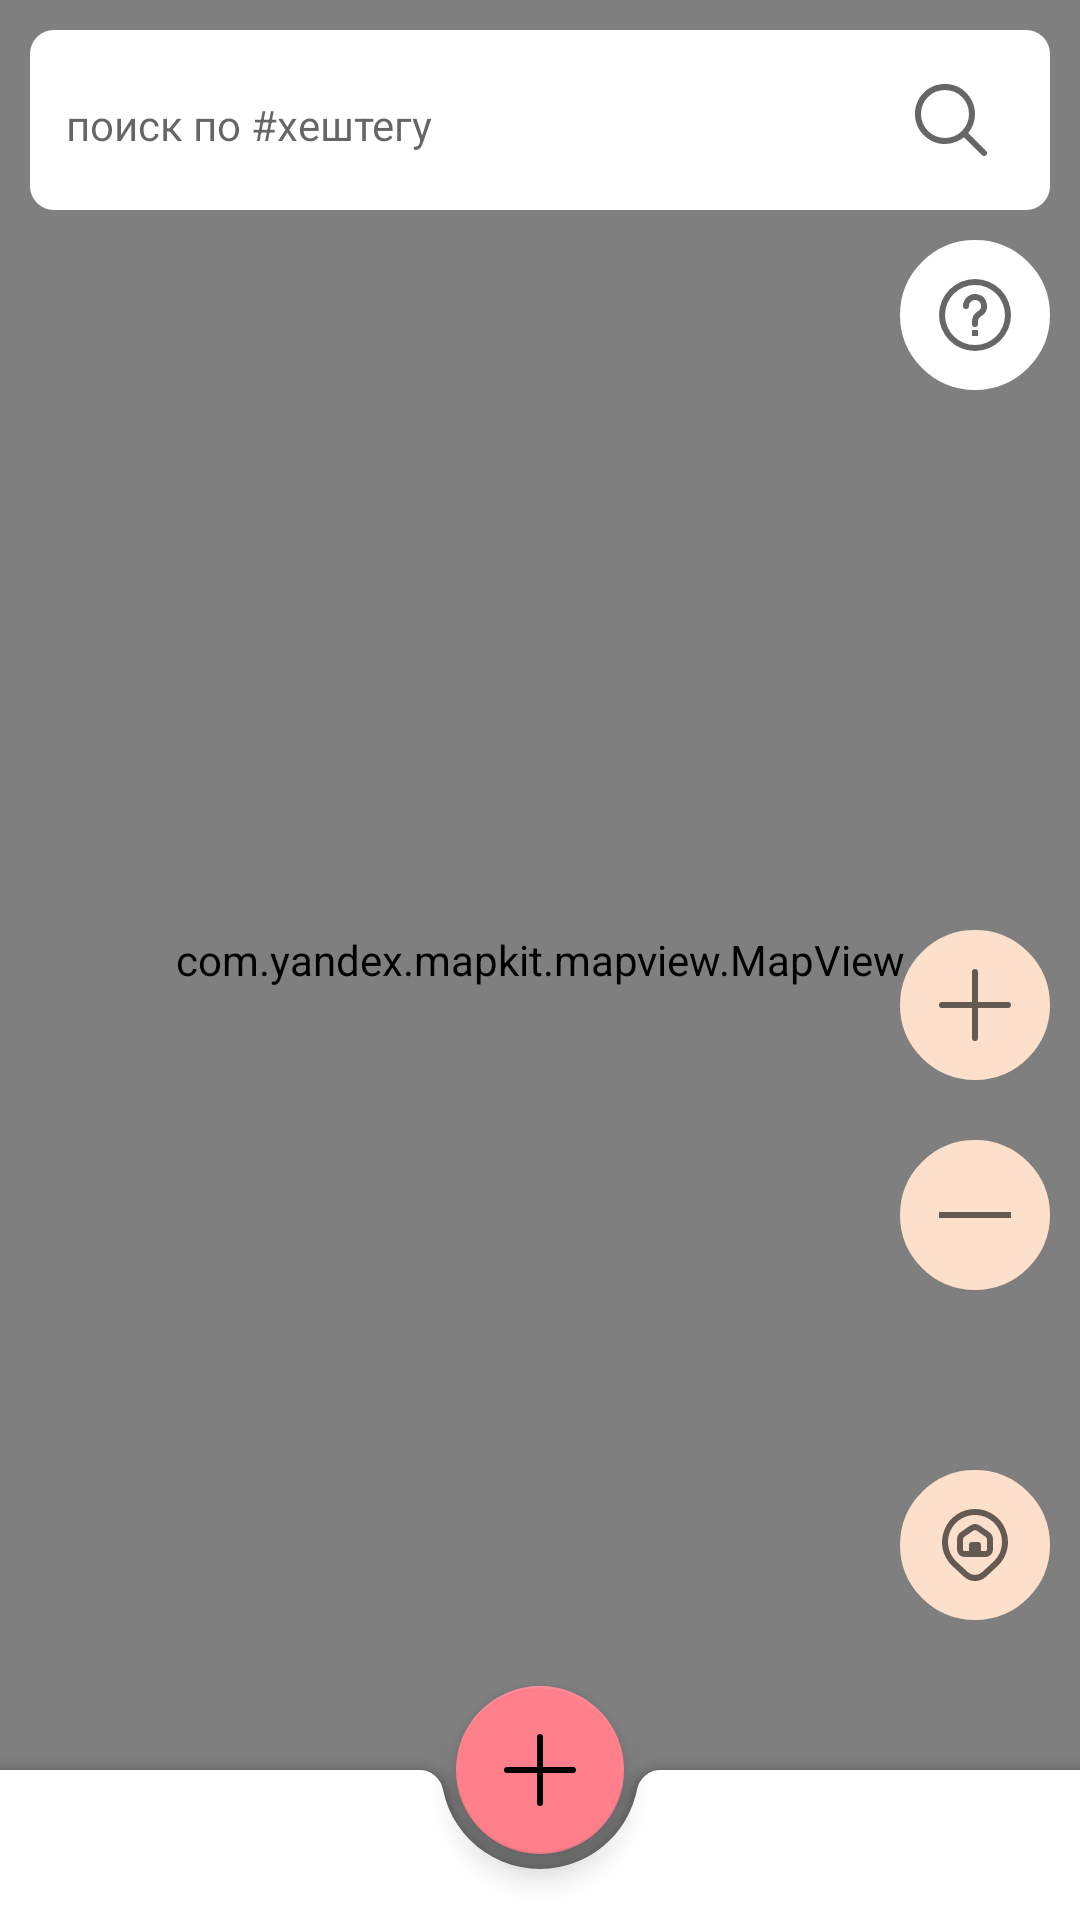

Named icons in this screenshot (1080px×1920px) and their bounding boxes, (x1, y1, x2, y2):
minus: (900, 1140, 1050, 1290)
plus: (900, 930, 1050, 1080), (456, 1686, 624, 1854)
quest: (900, 240, 1050, 390)
search: (915, 84, 987, 156)
user home: (900, 1470, 1050, 1620)
